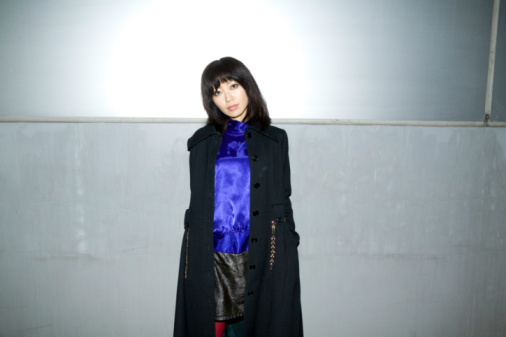em pe: (170, 55, 300, 337)
